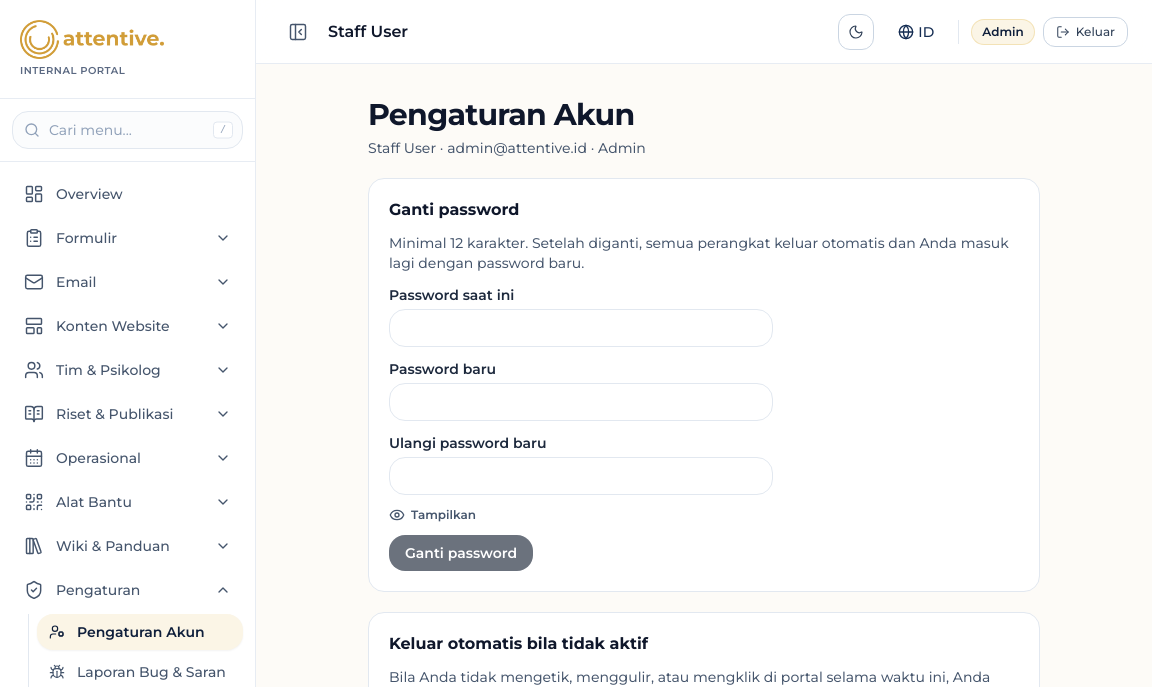
admin dashboard update › groups every form under Formulir, with a sub menu per form
Click the button "Formulir" at (128, 238), box left=12, top=218, right=243, bottom=258
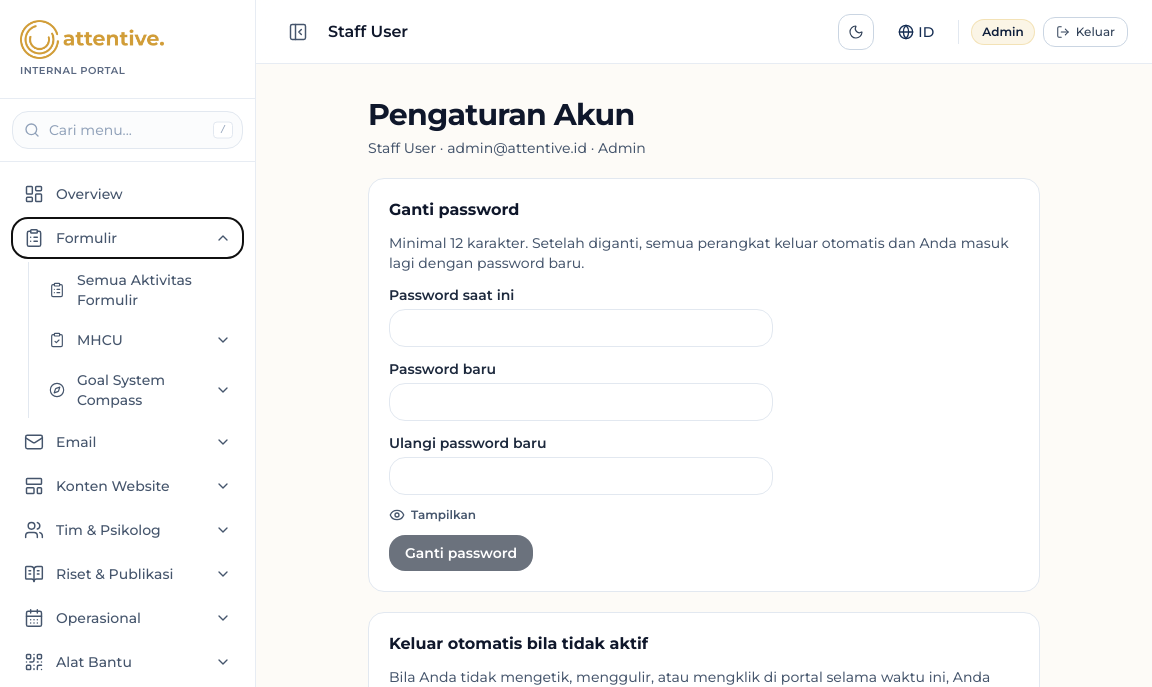
Now the button "MHCU" is shown, box left=37, top=322, right=243, bottom=358
Now the button "Goal System Compass" is shown, box left=37, top=362, right=243, bottom=418
